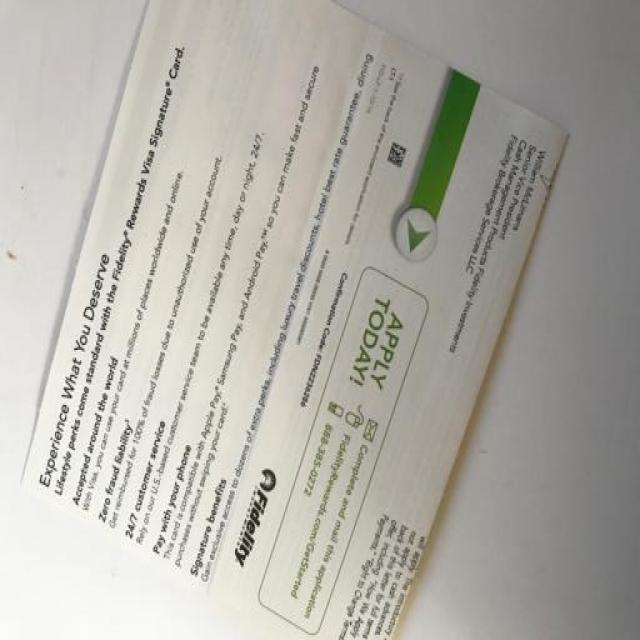paper: (7, 2, 592, 640)
